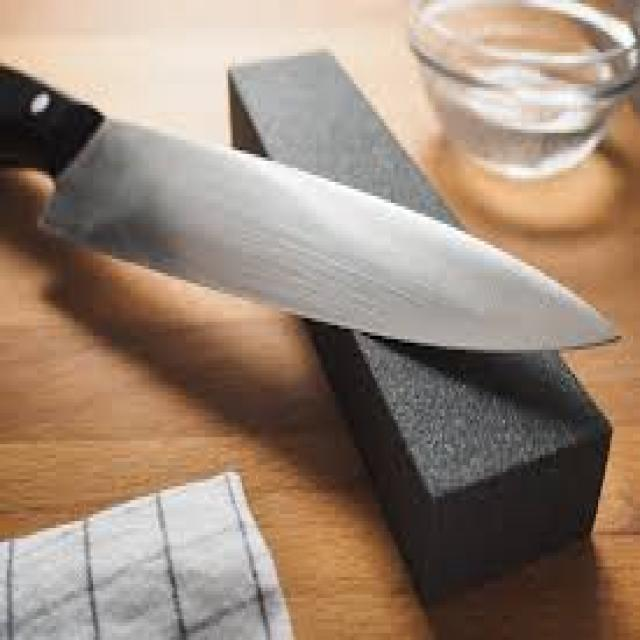Knife: (0, 63, 617, 353)
